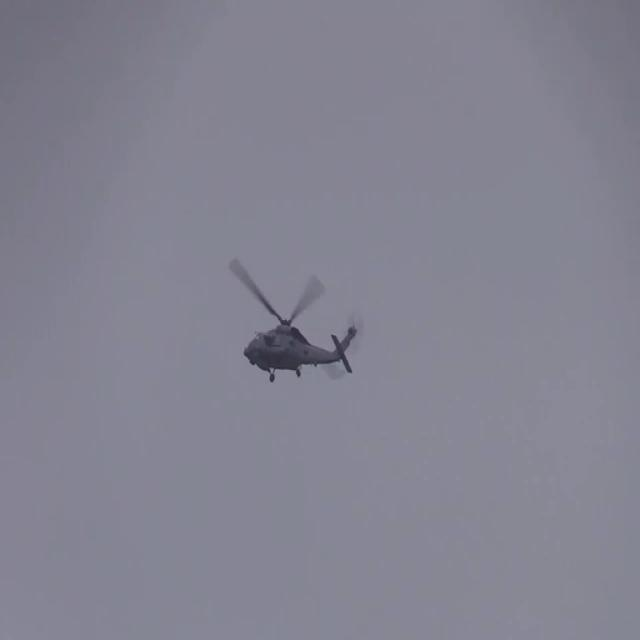Helicopter: (202, 234, 382, 400)
